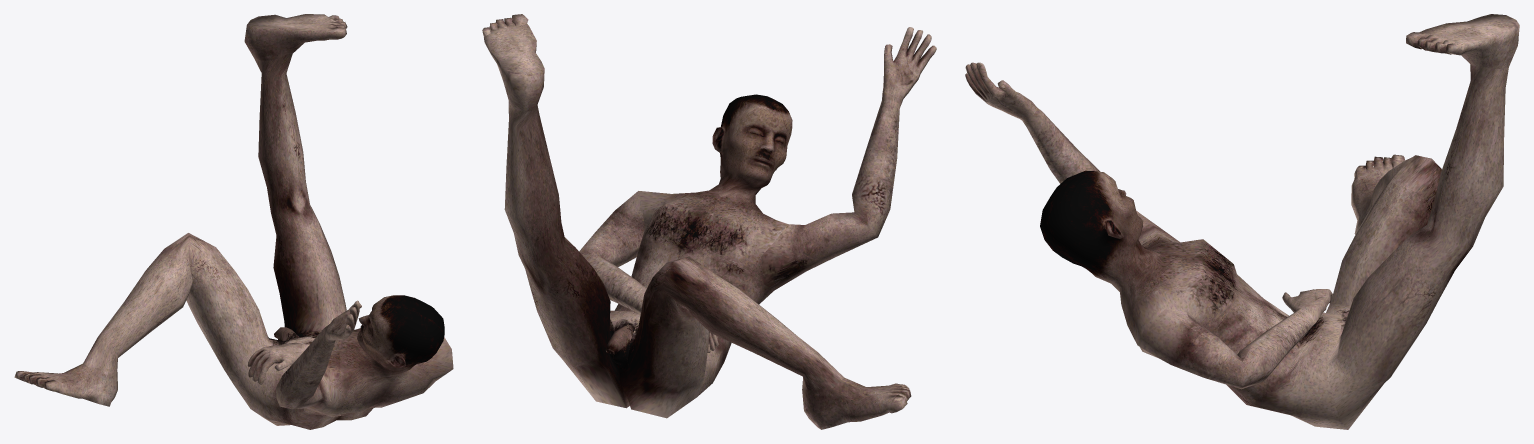
File: graveyard_corpse02.dae
The picture shows the model from 3 angles, left to right: view 1: azimuth 30°, elevation 25°; view 2: azimuth 150°, elevation 25°; view 3: azimuth 270°, elevation 25°; orthographic projection. The views are drawn at different scales.
Visible parts, largest first — view 1: graveyard_corpse02; view 2: graveyard_corpse02; view 3: graveyard_corpse02.
Part boxes in pixels (left/top/right/bottom): graveyard_corpse02: left=14, top=14, right=453, bottom=429; graveyard_corpse02: left=482, top=14, right=936, bottom=429; graveyard_corpse02: left=965, top=14, right=1519, bottom=429.
Bounding box in the file's own units: 1.2 × 1.13 × 1.35.
